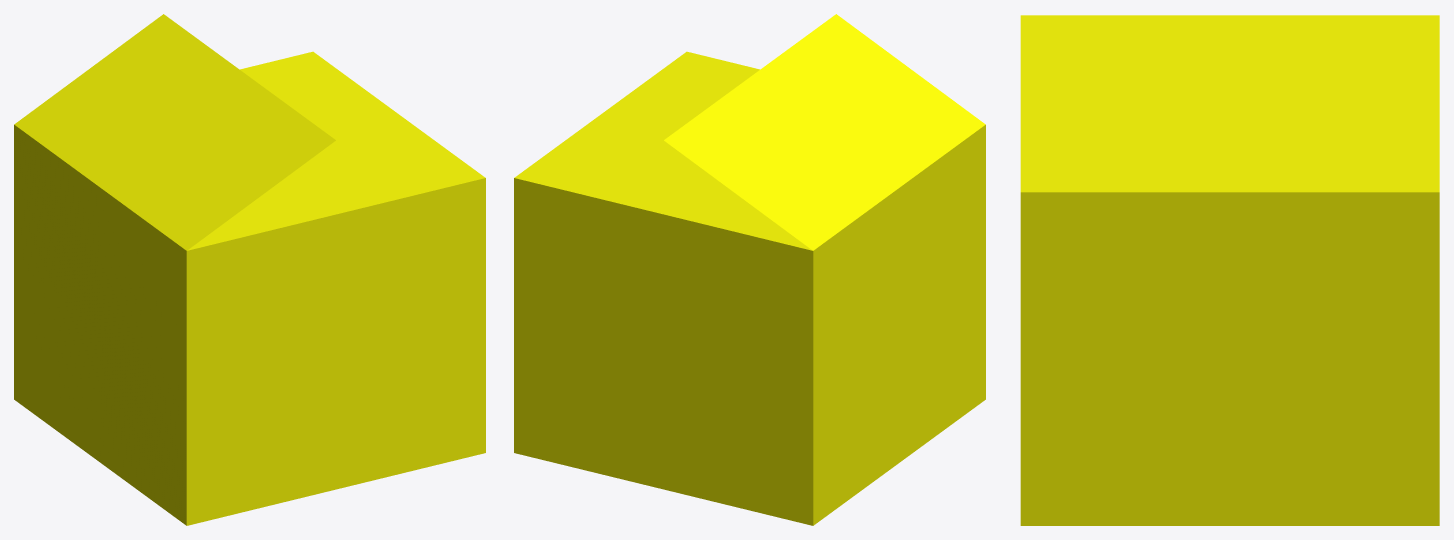
The model's file is kaykit-box-b.glb.
3 views of the same model, side by side, from view 1: azimuth 30°, elevation 25°; view 2: azimuth 150°, elevation 25°; view 3: azimuth 270°, elevation 25° (orthographic). The views are drawn at different scales.
Visible parts, largest first — view 1: box_B; view 2: box_B; view 3: box_B.
Part boxes in pixels (x1,y1,x2,y2): box_B: [14, 14, 485, 525]; box_B: [514, 14, 985, 525]; box_B: [1020, 15, 1439, 525].
Bounding box in the file's own units: 0.1521 × 0.1696 × 0.1544.
